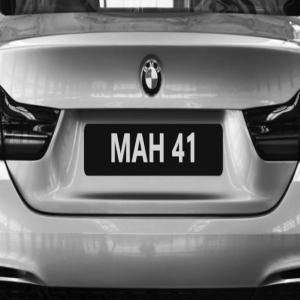Plate: (84, 124, 223, 176)
